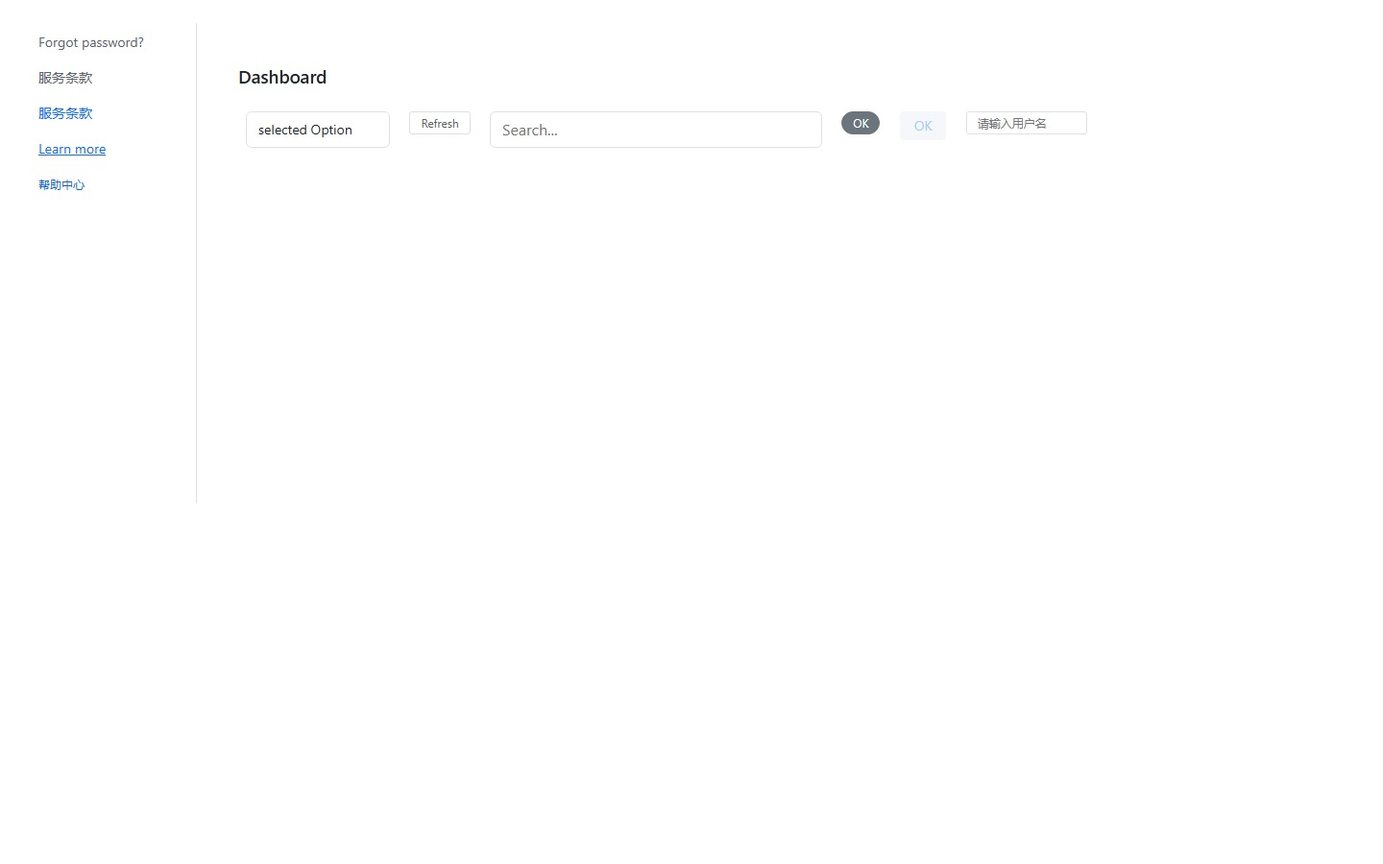button: (410, 111, 470, 134), (900, 111, 946, 140), (842, 111, 880, 134)
input: (490, 111, 822, 148), (966, 111, 1087, 134)
link: (38, 33, 144, 51), (38, 139, 106, 157), (38, 68, 92, 86), (38, 104, 92, 122), (38, 177, 85, 192)
select: (246, 111, 390, 148)
